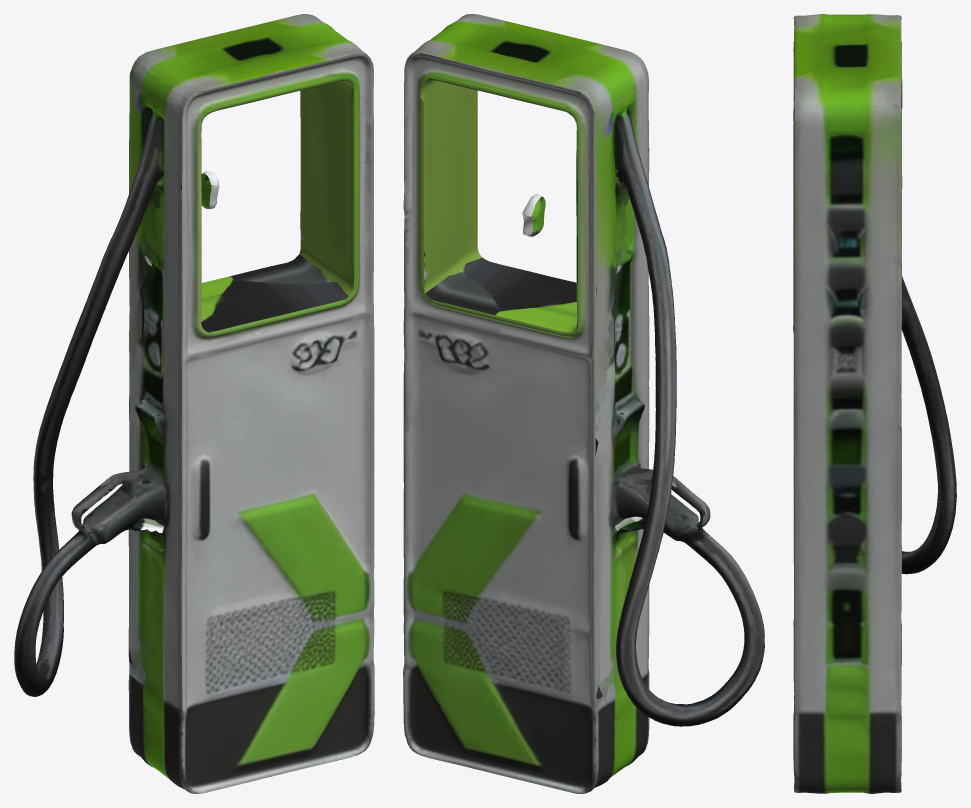
Rendered from estacion.glb.
3 renders of one model, left to right at view 1: azimuth 30°, elevation 25°; view 2: azimuth 150°, elevation 25°; view 3: azimuth 270°, elevation 25°, orthographic.
Parts seen in each view (by area): view 1: tmpmps4yzzt.ply; view 2: tmpmps4yzzt.ply; view 3: tmpmps4yzzt.ply.
Boxes of the visible parts, bbox=[...] form: tmpmps4yzzt.ply: bbox=[14, 14, 374, 793]; tmpmps4yzzt.ply: bbox=[403, 14, 764, 793]; tmpmps4yzzt.ply: bbox=[793, 14, 956, 793].
Size of the model in its own units: 0.9719 by 1.96 by 0.4145.
1 material, 1 textured.
